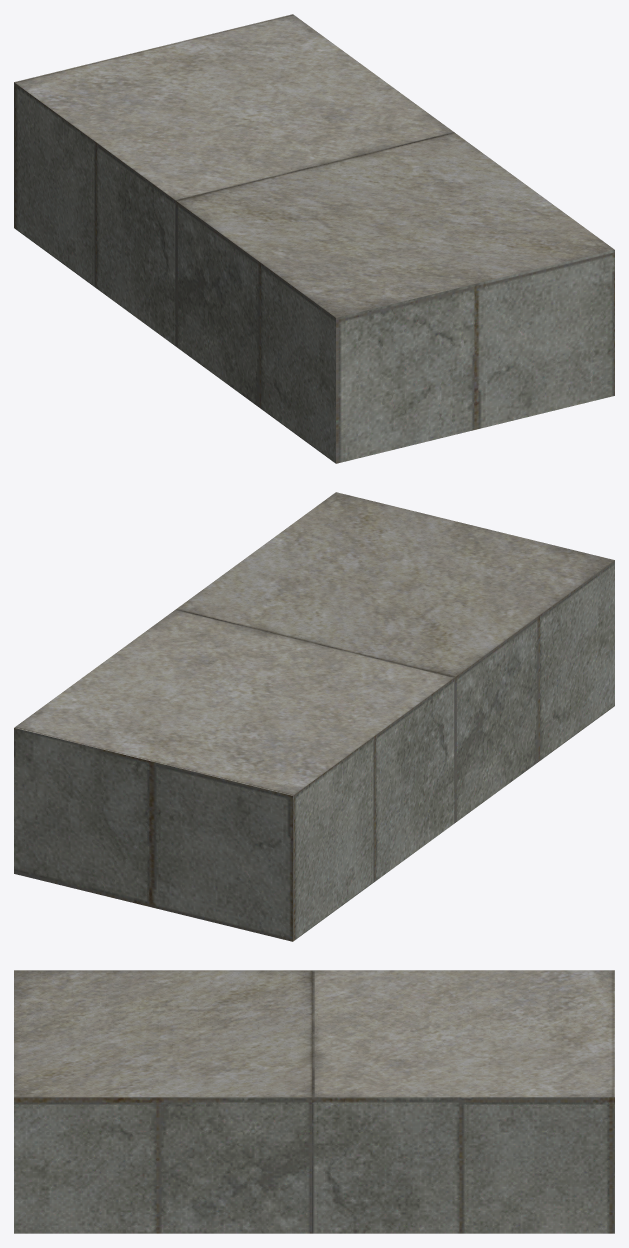
Rendered from floor_block_1_1x2.fbx.
3 views of the same model, one above another, from view 1: azimuth 30°, elevation 25°; view 2: azimuth 150°, elevation 25°; view 3: azimuth 270°, elevation 25° (orthographic). The views are drawn at different scales.
Parts seen in each view (by area): view 1: floor_block_1_1x2; view 2: floor_block_1_1x2; view 3: floor_block_1_1x2.
Part boxes in pixels (x1=…): floor_block_1_1x2: x1=14, y1=14, x2=614, y2=463; floor_block_1_1x2: x1=14, y1=492, x2=614, y2=941; floor_block_1_1x2: x1=14, y1=970, x2=614, y2=1233.
Bounding box in the file's own units: 100 × 50 × 200.
